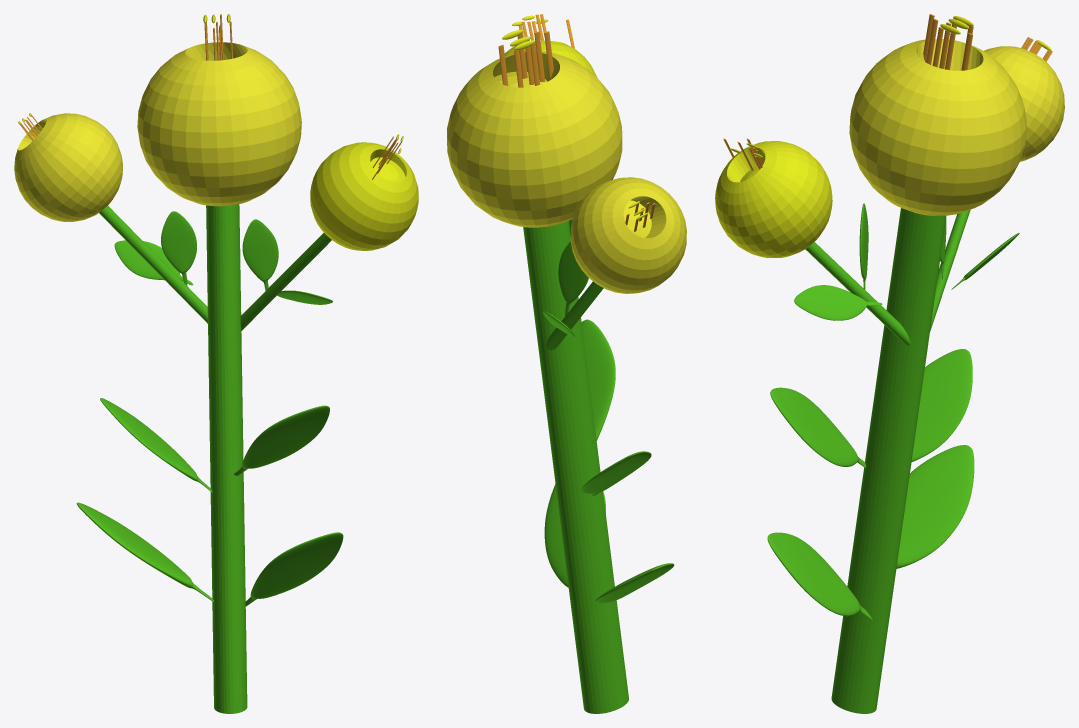
The model's file is flor amarela.blend cópia.fbx.
The picture shows the model from 3 angles, left to right: view 1: azimuth 30°, elevation 25°; view 2: azimuth 150°, elevation 25°; view 3: azimuth 270°, elevation 25°; orthographic projection. The views are drawn at different scales.
Visible parts, largest first — view 1: Esfera UV, Cilindro, Esfera UV.004, Esfera UV.006, Cubo.005, Cubo.001, Cubo.006, Cilindro.003, Cubo.003, Cubo.004, Cubo.002, Cilindro.010 (+1 smaller); view 2: Esfera UV, Cilindro, Esfera UV.004, Cubo.001, Cubo.005, Cubo.003, Cubo.004, Cubo.006, Cilindro.003, Esfera UV.006; view 3: Esfera UV, Cilindro, Esfera UV.006, Cubo.006, Cubo.003, Esfera UV.004, Cubo.005, Cubo.001, Cubo.007, Cilindro.010, Cilindro.003, Cubo.002.
Part boxes in pixels (left/top/right/bottom): Esfera UV: left=137, top=42, right=301, bottom=206; Cilindro: left=206, top=204, right=247, bottom=713; Esfera UV.004: left=14, top=113, right=123, bottom=221; Esfera UV.006: left=310, top=142, right=418, bottom=250; Cubo.005: left=245, top=532, right=343, bottom=606; Cubo.001: left=234, top=405, right=329, bottom=475; Cubo.006: left=76, top=502, right=213, bottom=601; Cilindro.003: left=99, top=206, right=207, bottom=323; Cubo.003: left=100, top=398, right=212, bottom=492; Cubo.004: left=161, top=211, right=196, bottom=285; Cubo.002: left=242, top=219, right=278, bottom=290; Cilindro.010: left=240, top=233, right=331, bottom=330; Esfera UV: left=447, top=51, right=622, bottom=227; Cilindro: left=523, top=221, right=628, bottom=713; Esfera UV.004: left=570, top=177, right=686, bottom=293; Cubo.001: left=581, top=319, right=615, bottom=440; Cubo.005: left=544, top=484, right=605, bottom=587; Cubo.003: left=581, top=451, right=651, bottom=495; Cubo.004: left=558, top=241, right=588, bottom=315; Cubo.006: left=595, top=563, right=674, bottom=603; Cilindro.003: left=546, top=281, right=603, bottom=349; Esfera UV.006: left=504, top=40, right=597, bottom=77; Esfera UV: left=849, top=39, right=1026, bottom=215; Cilindro: left=831, top=208, right=946, bottom=713; Esfera UV.006: left=715, top=141, right=832, bottom=257; Cubo.006: left=896, top=445, right=974, bottom=568; Cubo.003: left=911, top=349, right=972, bottom=461; Esfera UV.004: left=984, top=46, right=1064, bottom=161; Cubo.005: left=767, top=532, right=872, bottom=620; Cubo.001: left=770, top=387, right=866, bottom=467; Cubo.007: left=794, top=285, right=882, bottom=320; Cilindro.010: left=805, top=242, right=910, bottom=345; Cilindro.003: left=930, top=210, right=970, bottom=331; Cubo.002: left=859, top=203, right=868, bottom=289.
Size of the model in its own units: 148 by 326 by 147.
